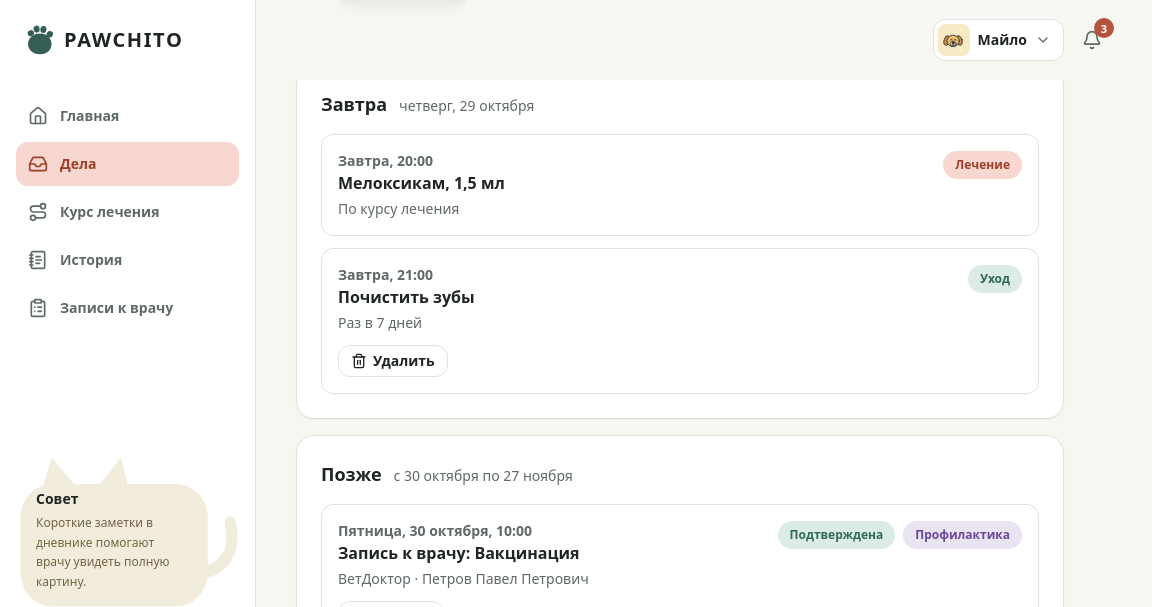
it: TasksPage › удаление своего дела — с подтверждением; дело уходит из «Завтра», фокус на календаре
(page scrolled)
Click the button named "Удалить, Почистить зубы, завтра, 21:00" at (393, 360), box [338,344,448,376]
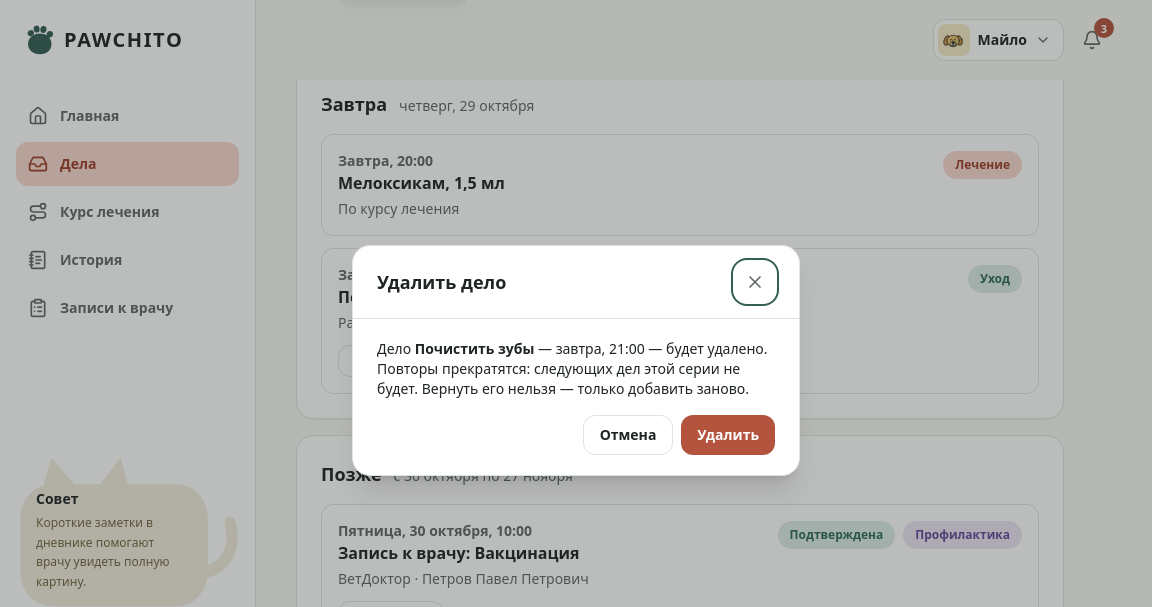
Now the text "Повторы прекратятся" is shown, box [377,358,740,398]
Click the button "Удалить" at (728, 434), box [681,414,775,454]
(page scrolled)
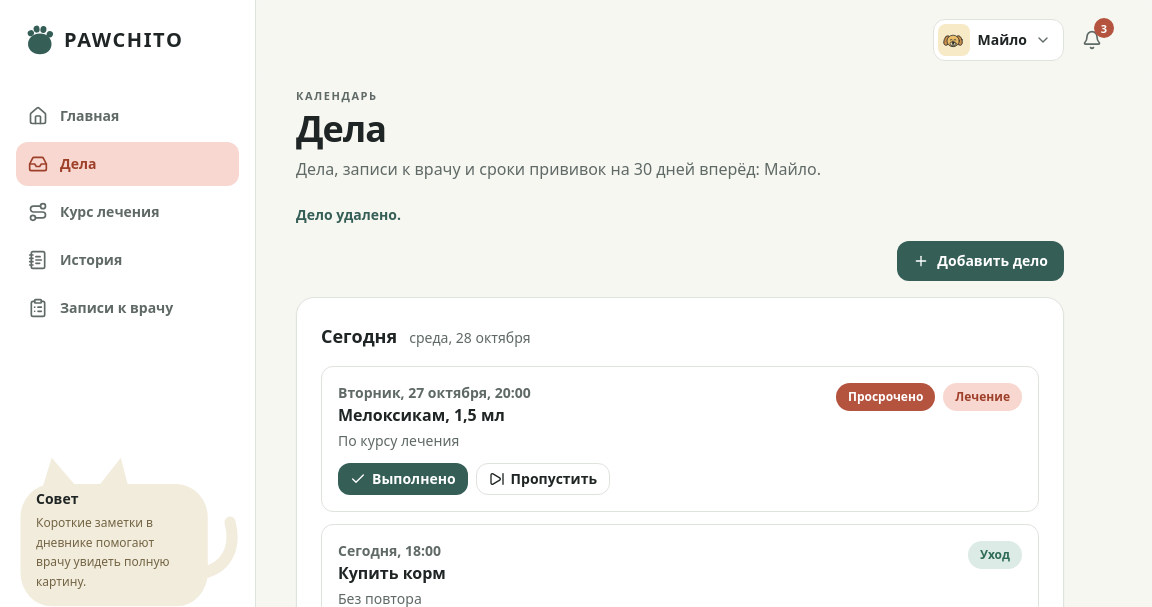
Now the text "Дело удалено." is shown, box [296,204,401,224]
